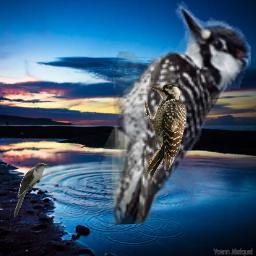Cuckoo: (12, 162, 50, 219)
Woodpecker: (73, 1, 251, 224), (141, 81, 187, 184)
